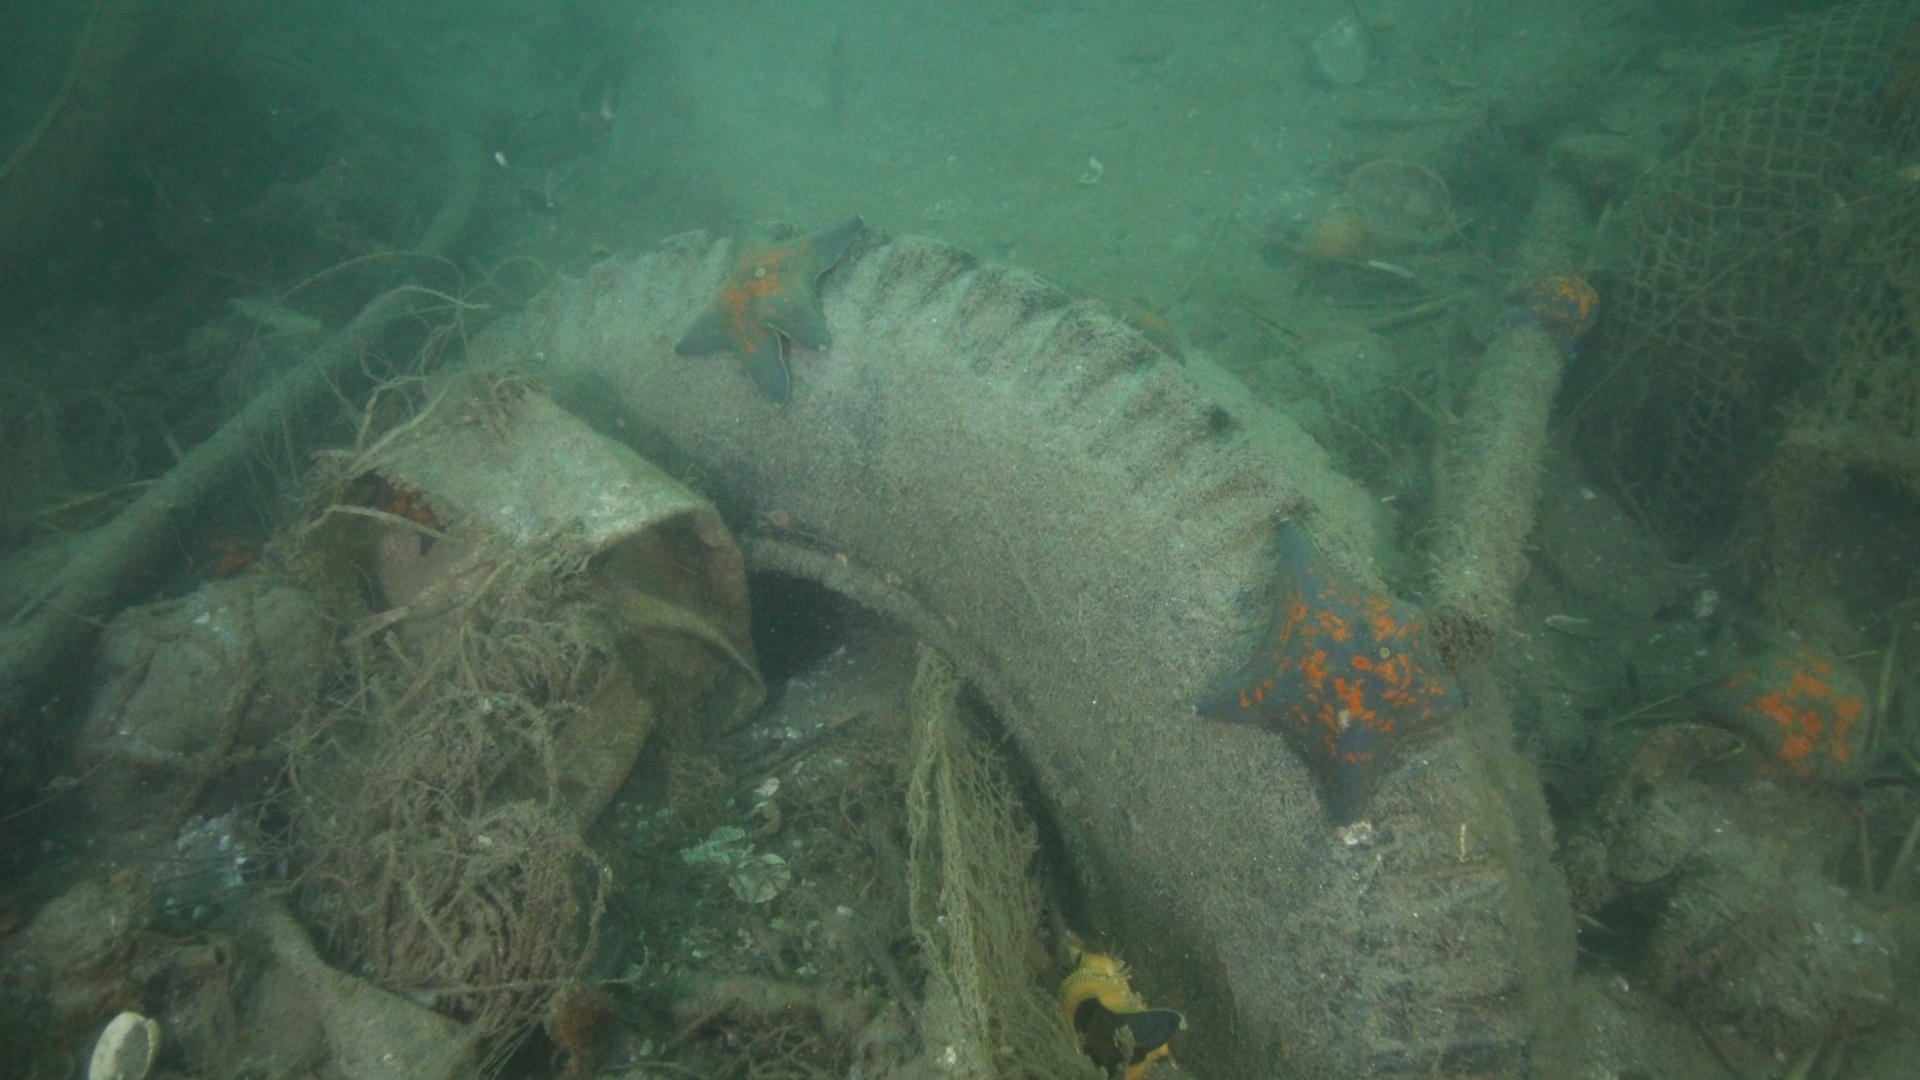fish net: (1590, 0, 1920, 514)
tire: (429, 220, 1578, 1080)
